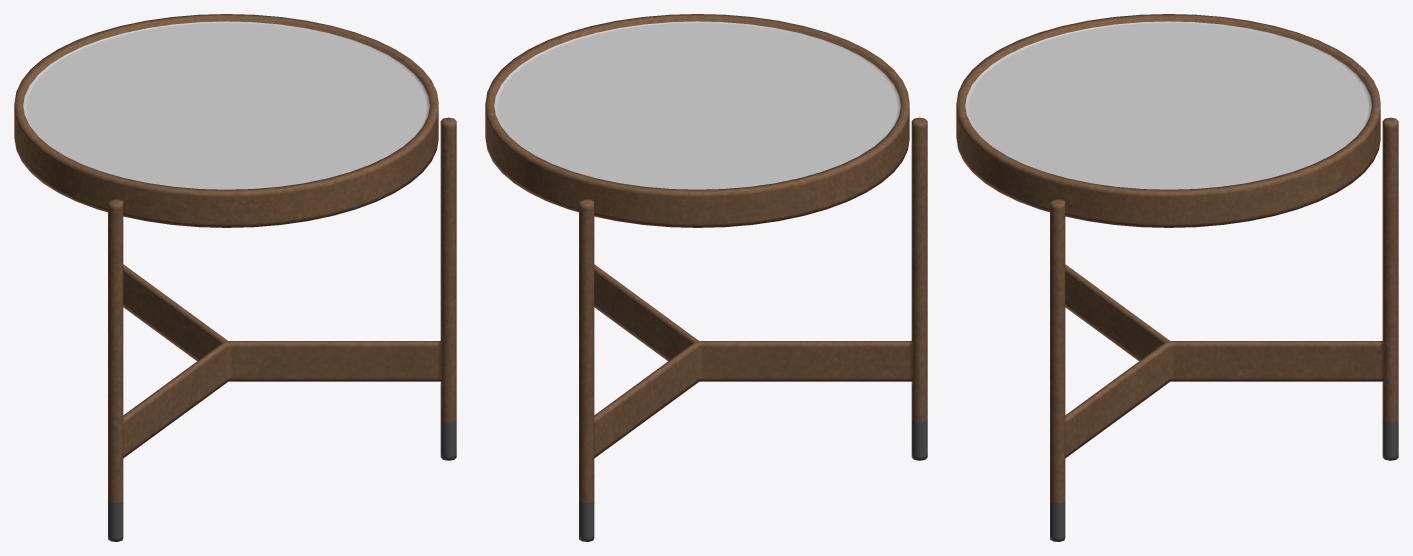
Rendered from CoffeeTable1.fbx.
The picture shows the model from 3 angles, left to right: view 1: azimuth 30°, elevation 25°; view 2: azimuth 150°, elevation 25°; view 3: azimuth 270°, elevation 25°; orthographic projection.
Parts seen in each view (by area): view 1: SM_CoffeeTable1_01; view 2: SM_CoffeeTable1_01; view 3: SM_CoffeeTable1_01.
Boxes of the visible parts, x1,y1,x2,y2 form: SM_CoffeeTable1_01: (14,14,456,541); SM_CoffeeTable1_01: (485,14,927,541); SM_CoffeeTable1_01: (956,14,1398,541).
Bounding box in the file's own units: 50 × 46 × 52.09.
